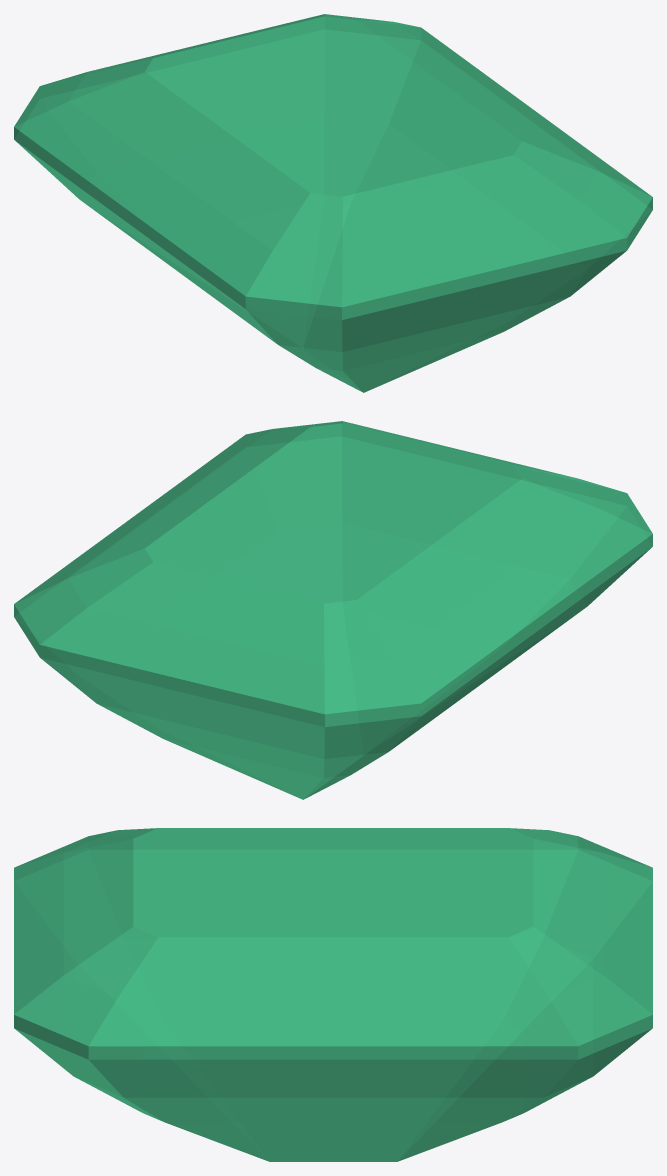
File: GemEmeraldCut.obj
3 renders of one model, top to bottom at view 1: azimuth 30°, elevation 25°; view 2: azimuth 150°, elevation 25°; view 3: azimuth 270°, elevation 25°, orthographic. The views are drawn at different scales.
Parts seen in each view (by area): view 1: Emerald; view 2: Emerald; view 3: Emerald.
Boxes of the visible parts, x1,y1,x2,y2 form: Emerald: (14,14,652,392); Emerald: (14,421,652,799); Emerald: (14,828,652,1161).
Bounding box in the file's own units: 0.007 × 0.00434 × 0.009.
